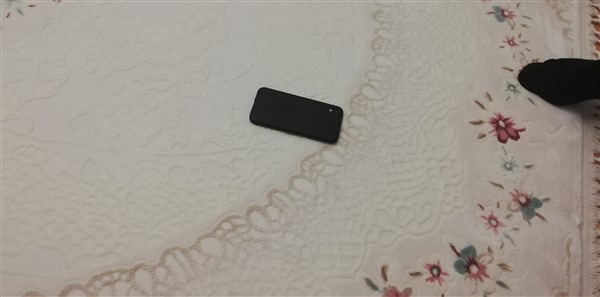telefon: (243, 85, 348, 146)
